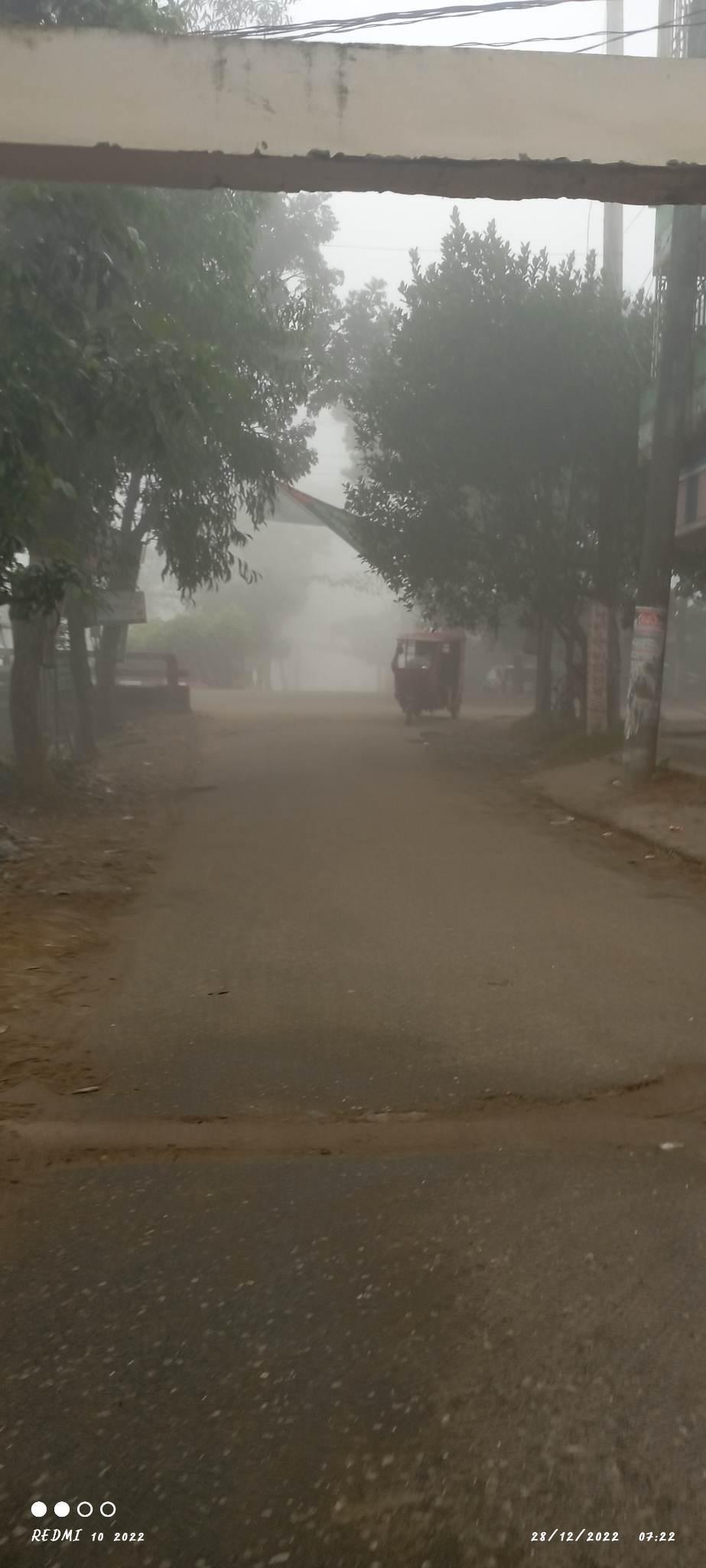Car: (346, 603, 494, 735)
